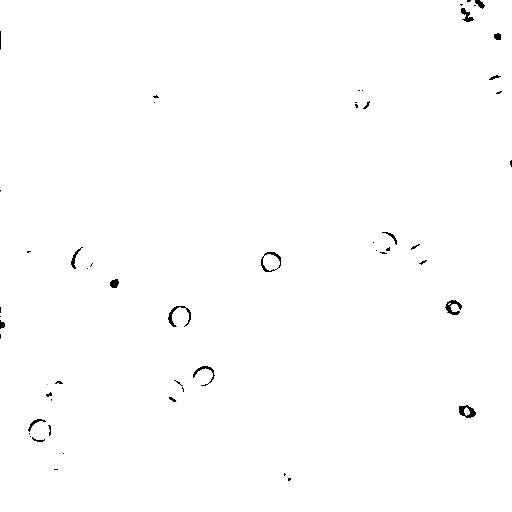micro-algae: (104, 397, 161, 451), (21, 354, 57, 394), (97, 262, 133, 301), (153, 0, 203, 22), (173, 271, 205, 305), (292, 357, 326, 387), (40, 447, 76, 473), (482, 23, 512, 53), (429, 381, 465, 406), (403, 241, 436, 267), (233, 257, 263, 285), (26, 416, 55, 444), (71, 242, 97, 273), (377, 327, 405, 353), (161, 376, 187, 403), (467, 0, 498, 22), (167, 303, 193, 329), (259, 249, 283, 277), (372, 228, 397, 254), (191, 363, 218, 387), (453, 0, 483, 21), (135, 265, 161, 289), (45, 379, 69, 405), (274, 462, 300, 485), (352, 86, 375, 112), (481, 73, 507, 94), (456, 400, 476, 421), (443, 297, 463, 317), (17, 233, 37, 251), (1, 309, 13, 335), (507, 148, 512, 170)
